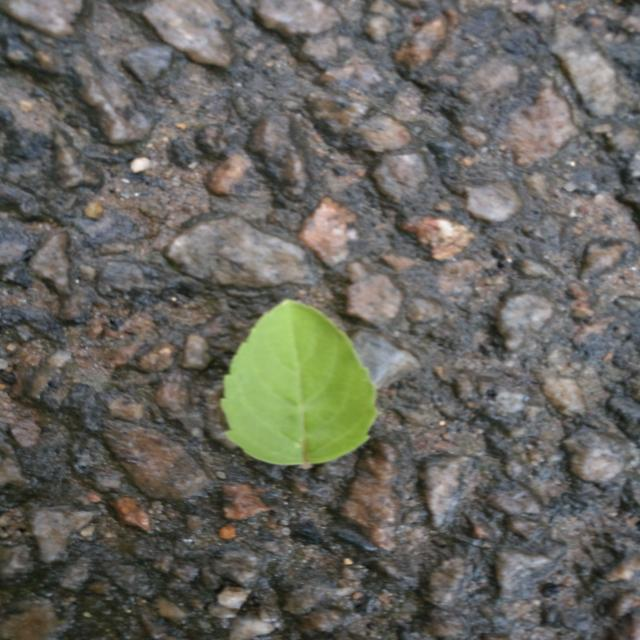tulsi: (222, 300, 377, 468)
